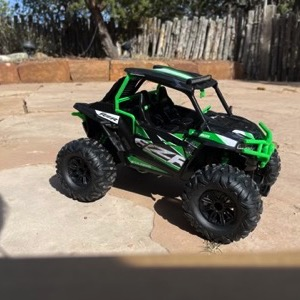polaris: (54, 64, 283, 245)
